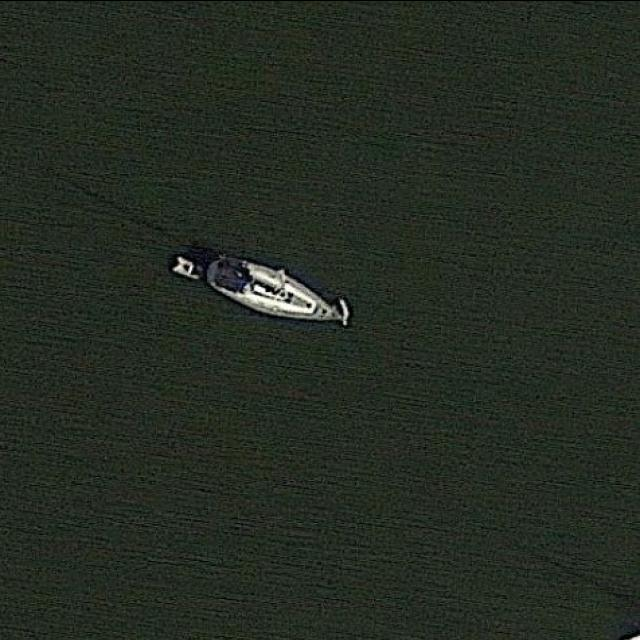ship: (172, 240, 352, 328)
